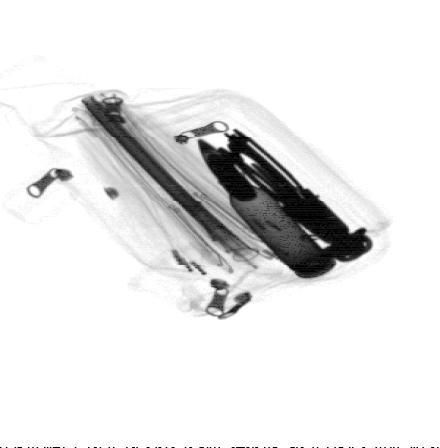Bullet: (190, 138, 337, 280)
HandCuffs: (209, 127, 380, 266)
